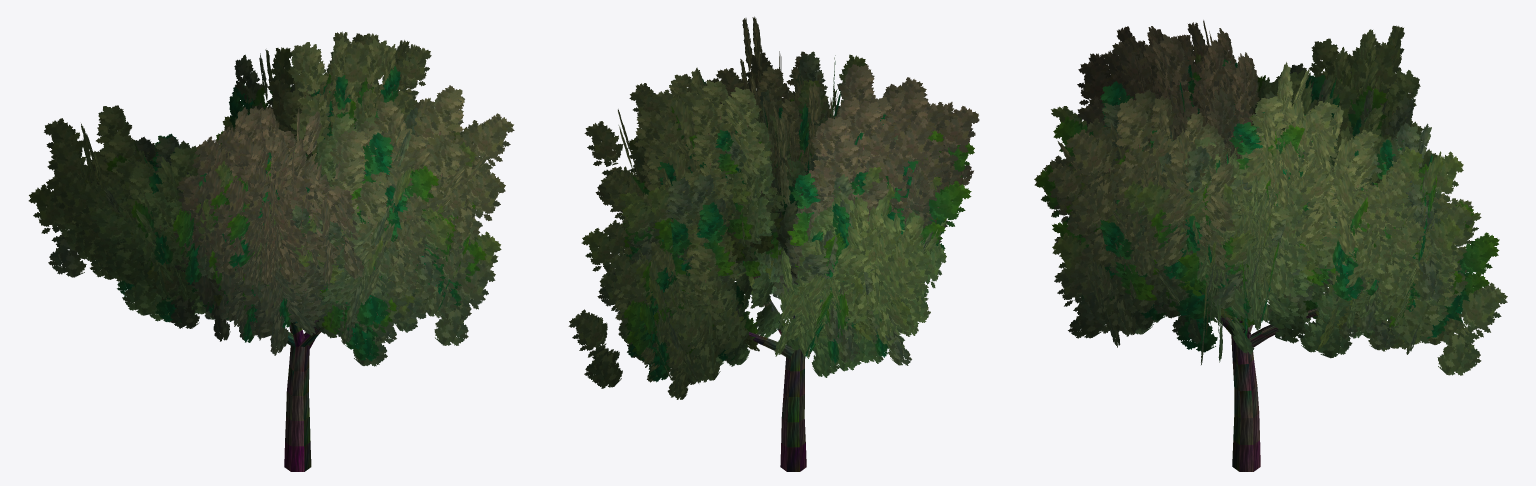
Rendered from nat_oak_c_LOD1.glb.
3 renders of one model, left to right at view 1: azimuth 30°, elevation 25°; view 2: azimuth 150°, elevation 25°; view 3: azimuth 270°, elevation 25°, orthographic. The views are drawn at different scales.
Parts seen in each view (by area): view 1: nat_oak_c_LOD1; view 2: nat_oak_c_LOD1; view 3: nat_oak_c_LOD1.
Part boxes in pixels (left/top/right/bottom): nat_oak_c_LOD1: left=28, top=31, right=514, bottom=471; nat_oak_c_LOD1: left=568, top=16, right=979, bottom=471; nat_oak_c_LOD1: left=1034, top=20, right=1507, bottom=471.
Bounding box in the file's own units: 11.34 × 11.18 × 11.88.
Materials: 2 (2 with a texture image).
